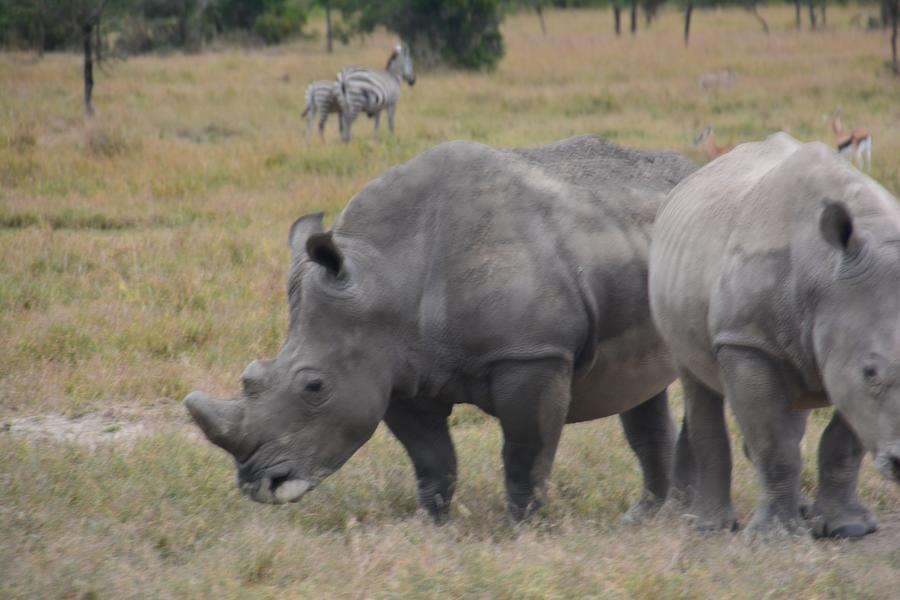rhino: (236, 140, 658, 493), (668, 132, 879, 549)
